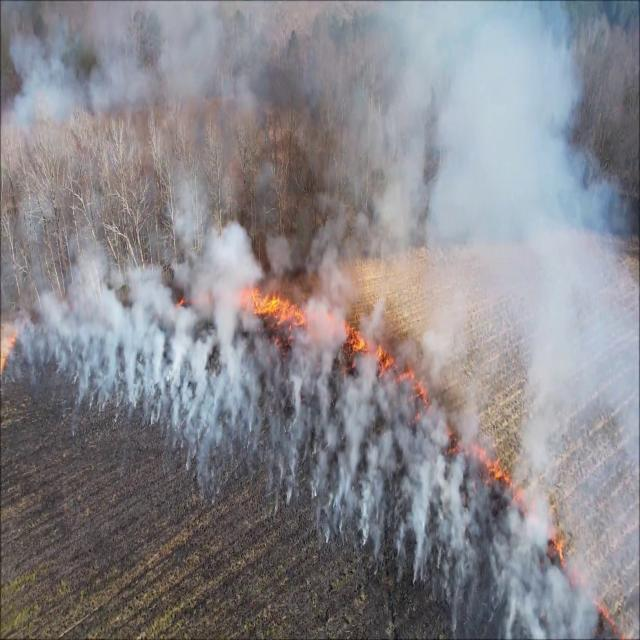Fire: (262, 282, 311, 344)
Smoke: (355, 12, 640, 483), (20, 246, 257, 483), (495, 521, 595, 640), (335, 364, 382, 557), (397, 409, 442, 584), (278, 350, 320, 513)
